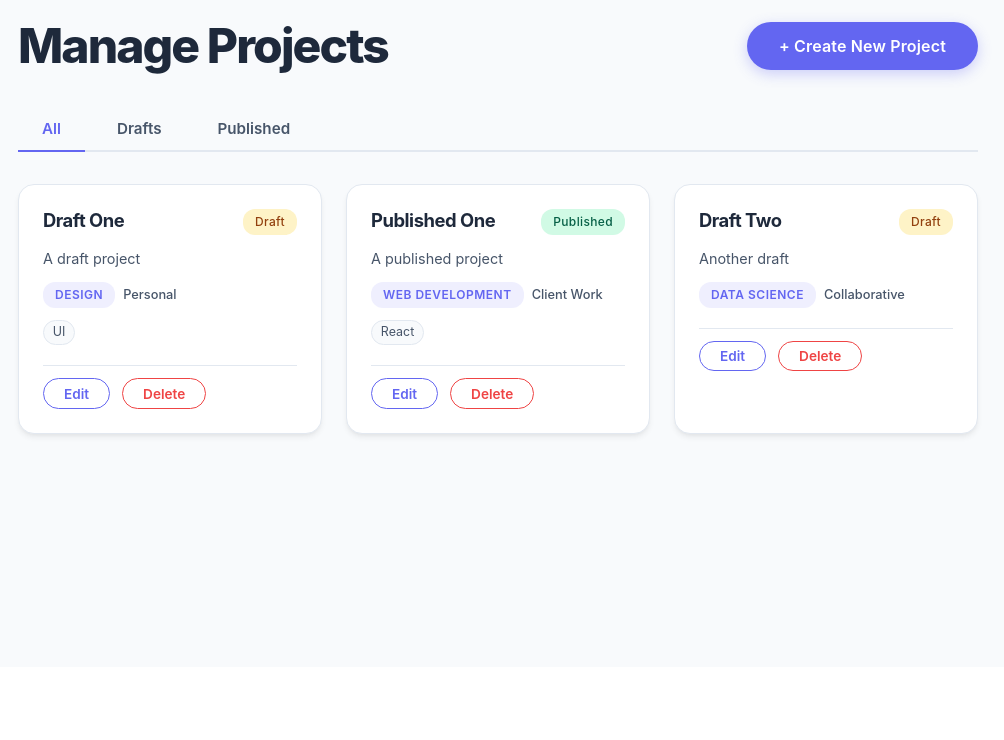
Scenario: ProjectsManager › Edit project › shows project form with edit title when edit is clicked
The width and height of the screenshot is (1004, 740).
What coordinates should you click on to do the following:
click the button with aria-label "edit draft one"
I would click on:
 (77, 394)
Its box is [43,378,110,409].
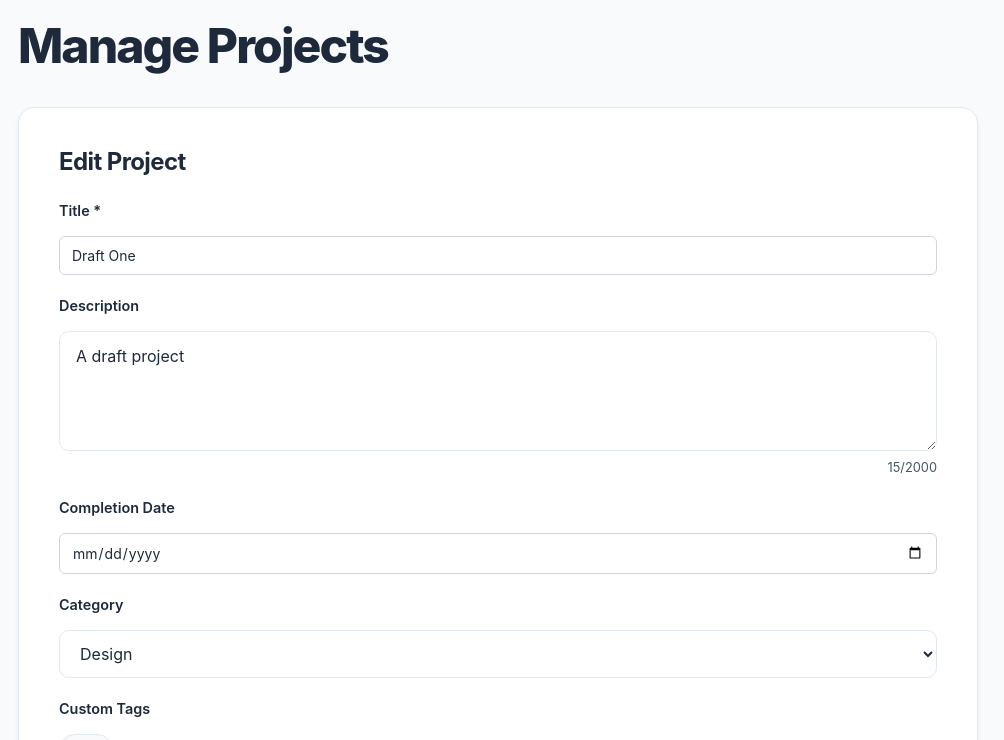
Check: the heading "Edit Project" is shown, box [59,147,186,176]
